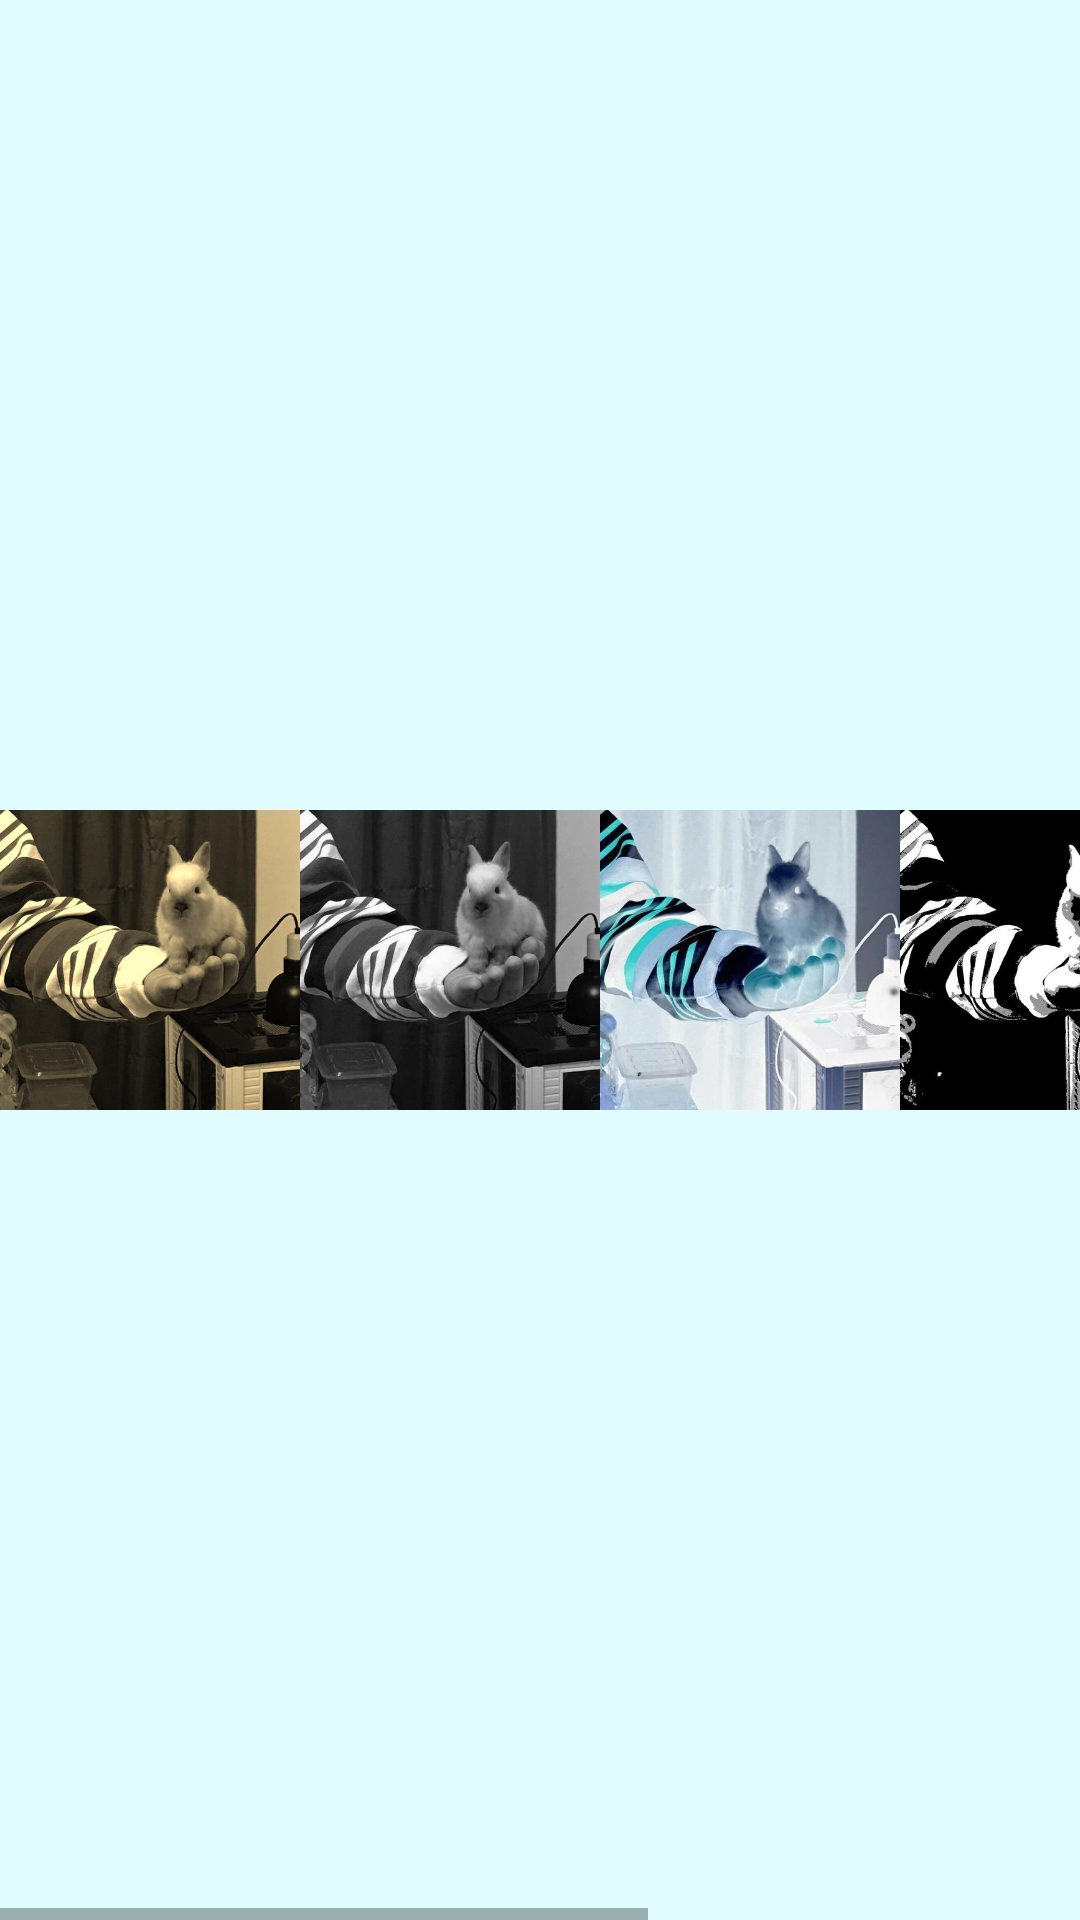

Screen size 1080px x 1920px. Icon name, then its center in pixels as [x,y]:
negative: [750,960]
sepia: [150,960]
